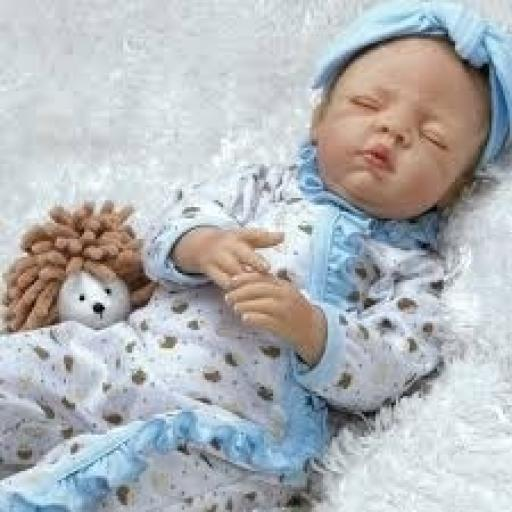sleeping: (0, 0, 510, 510)
